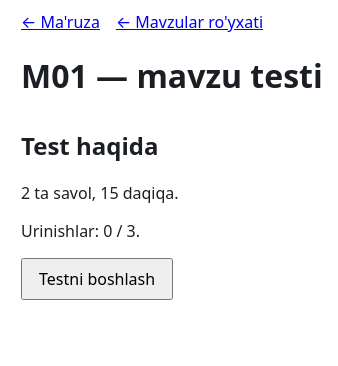
Test: mavzu testi (CNT-06) › urinishlar tugagan va vaqt o'tgan xabarlari
Step 1. Click the button "Testni boshlash" → click(97, 279), box [21,258,173,300]
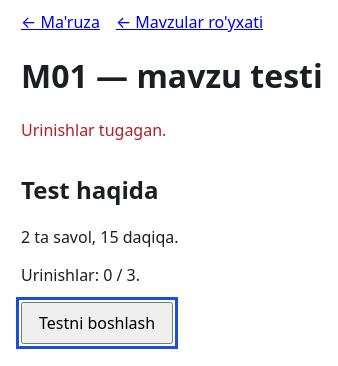
Expected: the message reads "Urinishlar tugagan.", [21,119,166,141]
